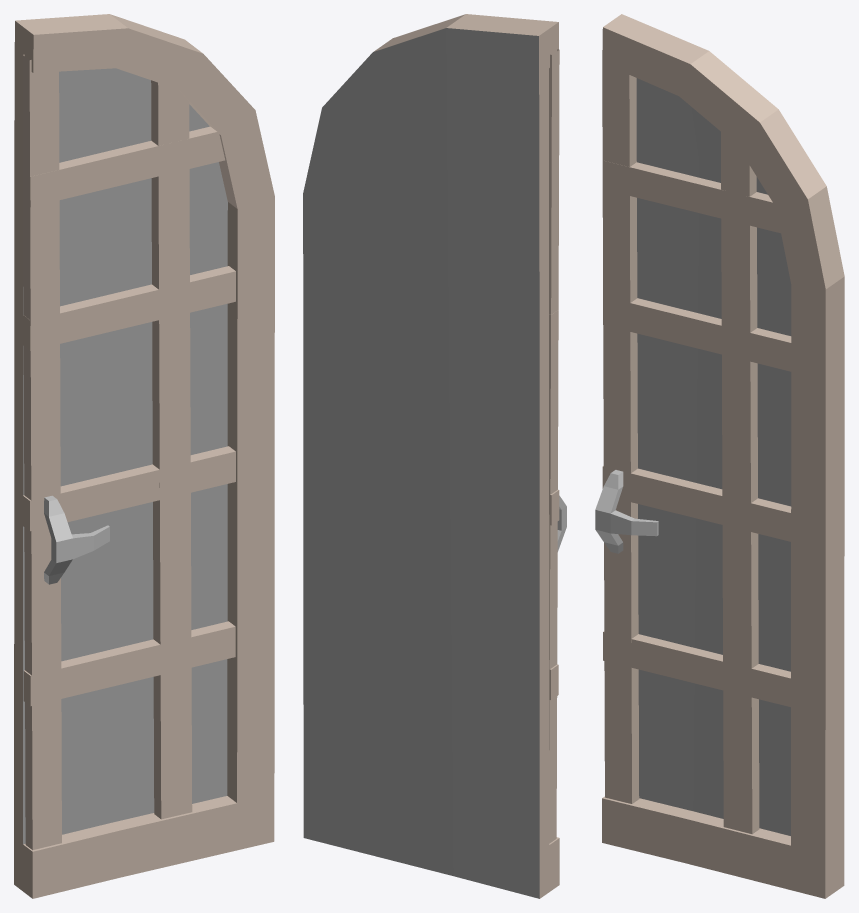
File: Atelier_modular_arc_outside_door_left.fbx
The picture shows the model from 3 angles, left to right: view 1: azimuth 30°, elevation 25°; view 2: azimuth 150°, elevation 25°; view 3: azimuth 330°, elevation 25°; orthographic projection. The views are drawn at different scales.
Visible parts, largest first — view 1: Atelier_modular_arc_outside_door_left; view 2: Atelier_modular_arc_outside_door_left; view 3: Atelier_modular_arc_outside_door_left.
Boxes of the visible parts, box(x1,y1,x2,y2) form: Atelier_modular_arc_outside_door_left: box(14, 14, 274, 898); Atelier_modular_arc_outside_door_left: box(303, 14, 566, 898); Atelier_modular_arc_outside_door_left: box(595, 14, 844, 898).
Size of the model in its own units: 74.98 by 256 by 18.76.
Materials: 3 (2 with a texture image).
